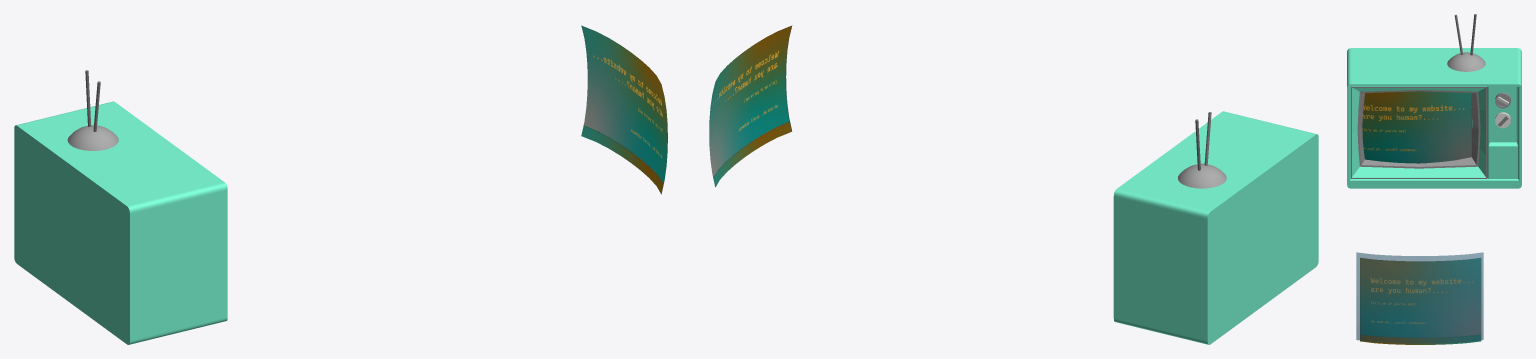
3 renders of one model, left to right at view 1: azimuth 30°, elevation 25°; view 2: azimuth 150°, elevation 25°; view 3: azimuth 270°, elevation 25°, orthographic. The views are drawn at different scales.
Visible parts, largest first — view 1: Cube, Plane, Sphere; view 2: Cube, Plane, Sphere; view 3: Cube, Plane.001, Plane, Plane.002, Cube.003, Sphere, Cube.004, Cylinder, Cylinder.001.
Part boxes in pixels (x1,y1,x2,y2): Cube: (14,101,227,344); Plane: (581,25,667,194); Sphere: (67,125,118,150); Cube: (1113,111,1318,344); Plane: (709,25,792,187); Sphere: (1178,163,1226,188); Cube: (1347,48,1521,188); Plane.001: (1356,252,1483,343); Plane: (1360,258,1481,344); Plane.002: (1362,91,1471,163); Cube.003: (1357,89,1480,168); Sphere: (1447,52,1485,71); Cube.004: (1351,87,1486,178); Cylinder: (1495,92,1510,108); Cylinder.001: (1495,112,1510,128).
Bounding box in the file's own units: 9.3 × 3.24 × 3.34.
13 materials, 3 textured.
